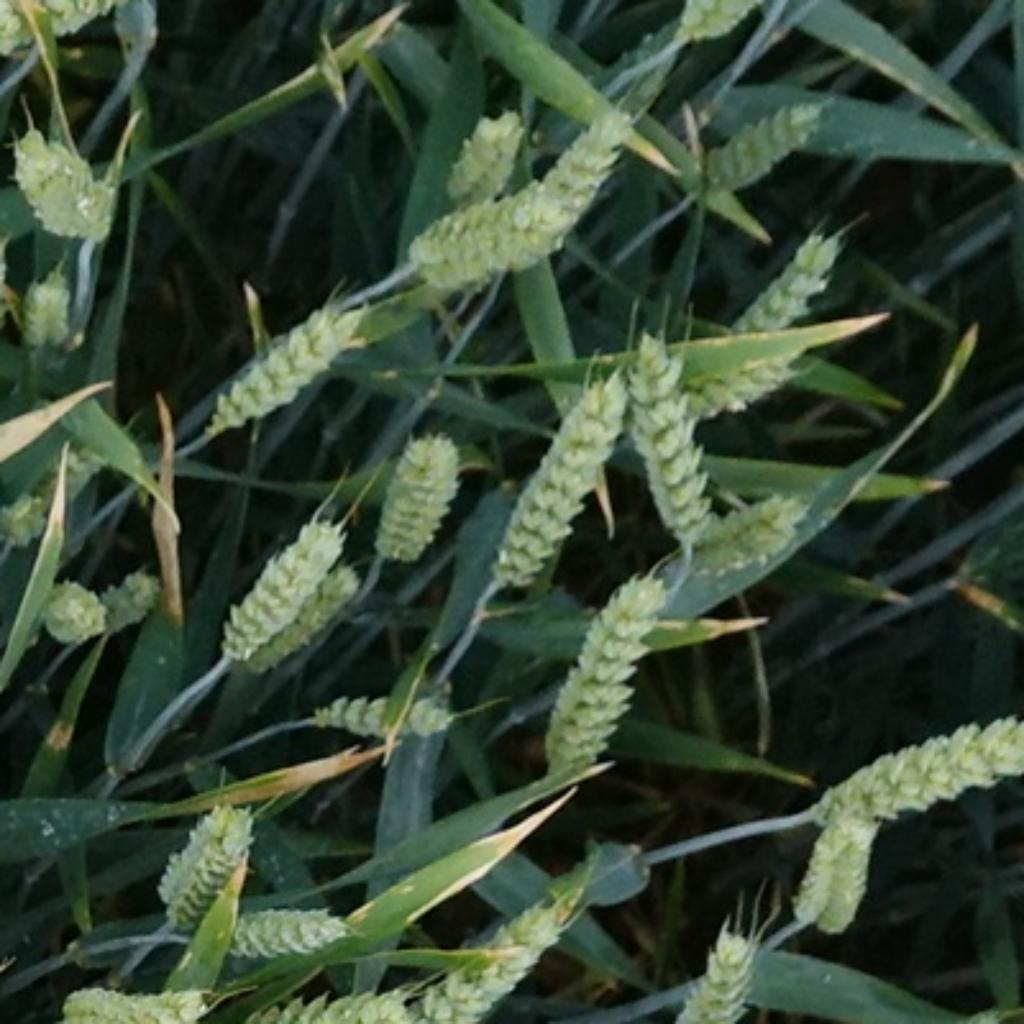0-0: (478, 369, 626, 590), (793, 698, 1024, 839), (488, 92, 652, 273), (532, 568, 670, 770), (192, 279, 368, 427), (618, 331, 717, 552), (200, 514, 346, 660), (419, 890, 570, 1024), (363, 414, 474, 573), (294, 657, 468, 752), (689, 91, 838, 199), (704, 217, 842, 332), (8, 121, 128, 249), (251, 565, 371, 693), (145, 791, 258, 924), (786, 792, 886, 936), (389, 194, 547, 284), (679, 487, 815, 579), (660, 916, 768, 1024), (244, 970, 430, 1024), (690, 348, 808, 431), (38, 967, 207, 1024), (437, 104, 540, 194), (216, 903, 356, 964), (0, 2, 107, 76), (39, 439, 117, 531), (12, 263, 84, 355), (88, 562, 172, 639), (32, 576, 114, 650), (657, 2, 762, 53), (3, 479, 53, 561)
